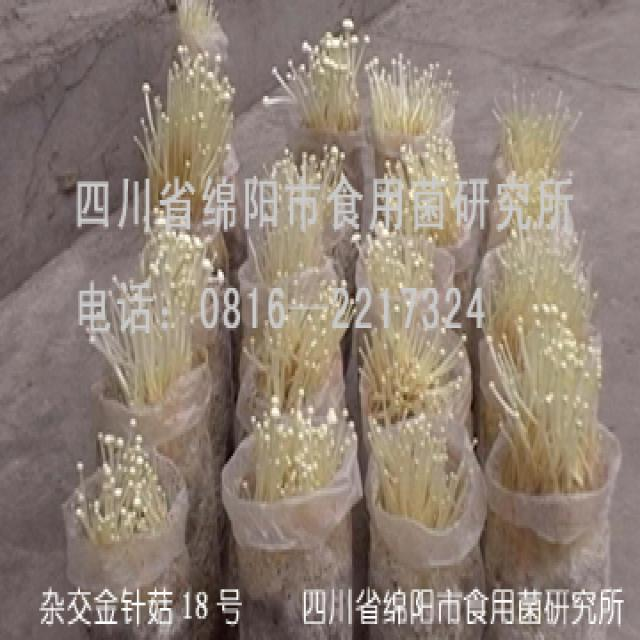Flammulina velutiper: (89, 216, 211, 399), (483, 307, 599, 494), (490, 83, 589, 302), (137, 50, 231, 196), (267, 21, 374, 146), (373, 398, 472, 532), (224, 389, 353, 490), (248, 151, 347, 273), (247, 268, 346, 381), (74, 420, 167, 534), (371, 54, 463, 153)
